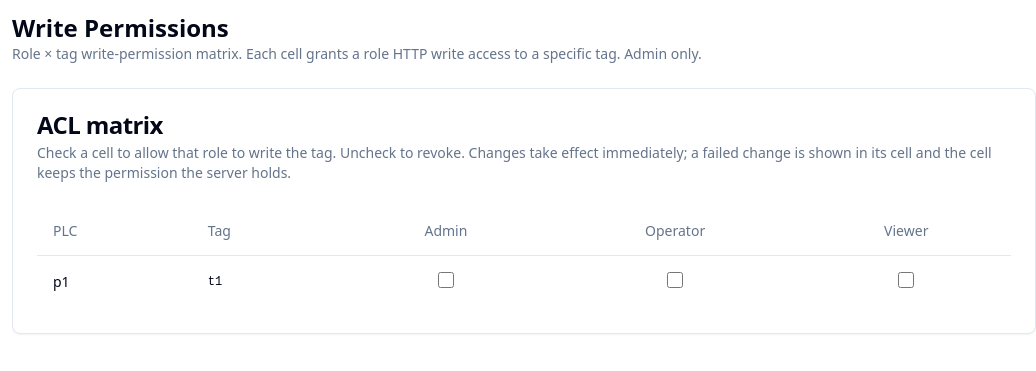
Test: ACL › shows an inline error and keeps the server state when a change fails
Click the checkbox named "Allow operator to write p1/t1": (675, 280) [667, 272, 683, 288]
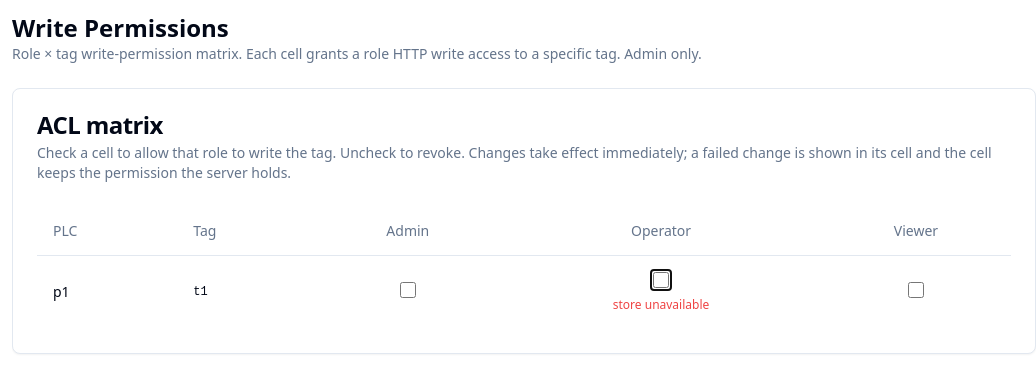
Expected: the checkbox named "Allow operator to write p1/t1" is not checked, [653, 272, 669, 288]
Expected: the message reads "store unavailable", [613, 296, 709, 312]
